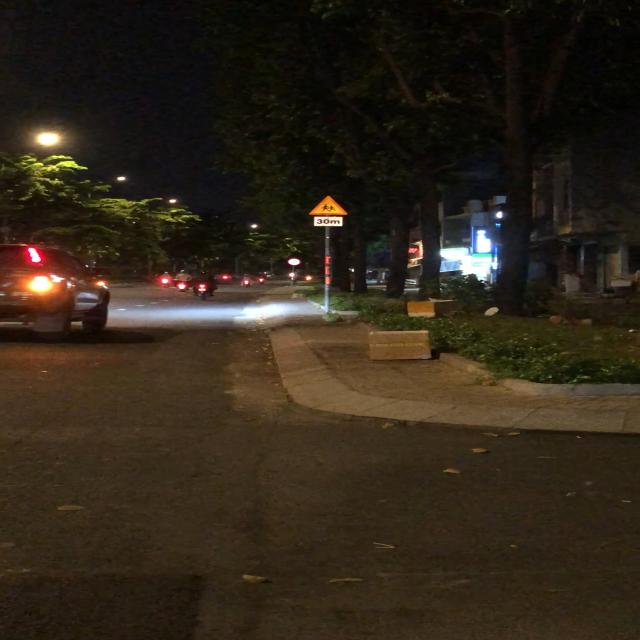Bien bao tre em: (306, 195, 349, 216)
